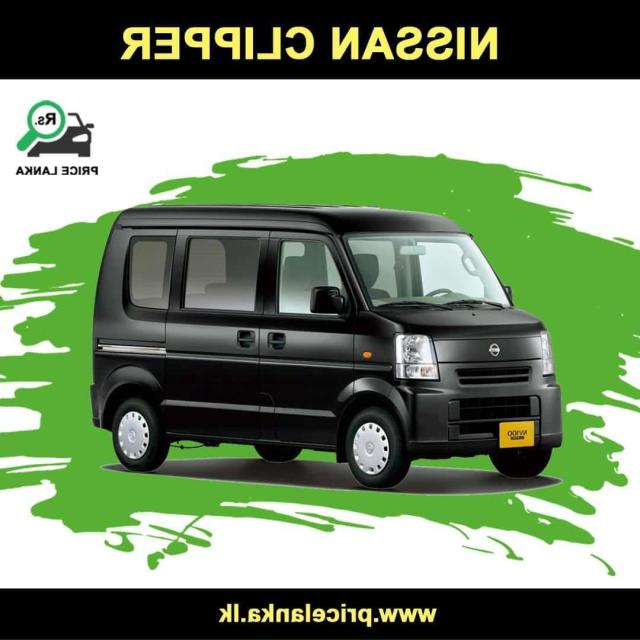Van: (74, 167, 573, 496)
